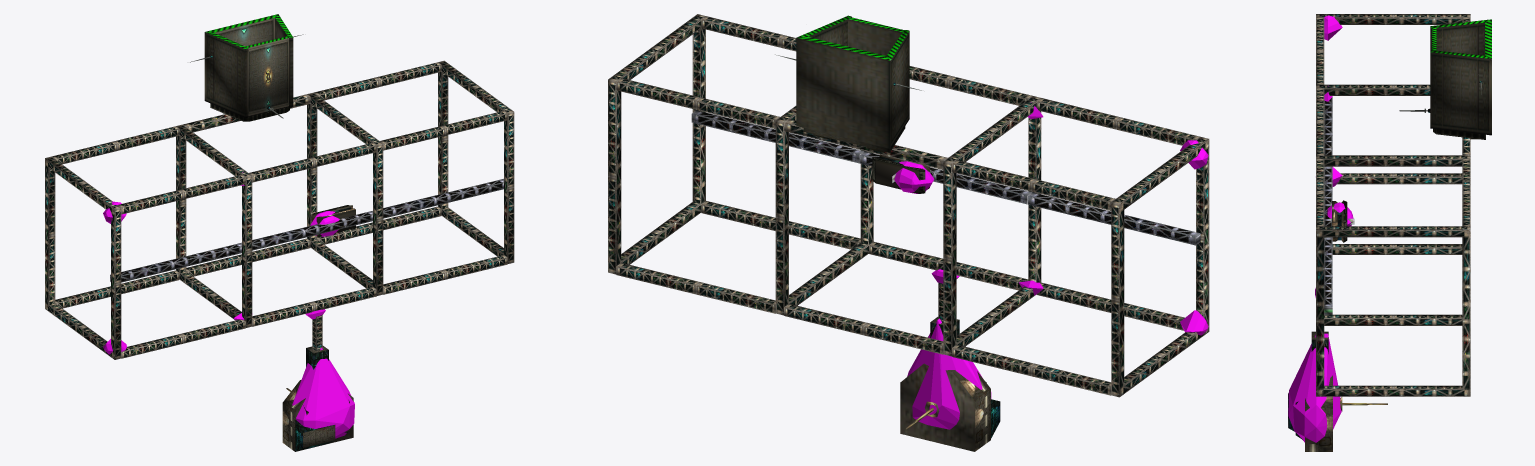
Rendered from acs05.glb.
3 views of the same model, side by side, from view 1: azimuth 30°, elevation 25°; view 2: azimuth 150°, elevation 25°; view 3: azimuth 270°, elevation 25° (orthographic). The views are drawn at different scales.
Visible parts, largest first — view 1: acs05, COL_CoACD005; view 2: acs05, COL_CoACD005, COL_CoACD006; view 3: acs05, COL_CoACD005, COL_CoACD001.
Boxes of the visible parts, x1,y1,x2,y2 form: acs05: (45,14,514,451); COL_CoACD005: (292,348,354,438); acs05: (608,14,1209,451); COL_CoACD005: (907,318,991,429); COL_CoACD006: (894,161,934,193); acs05: (1288,14,1491,451); COL_CoACD005: (1288,333,1341,442); COL_CoACD001: (1324,15,1342,40).
Bounding box in the file's own units: 25.7 × 18.82 × 10.77.
2 materials, 1 textured.
